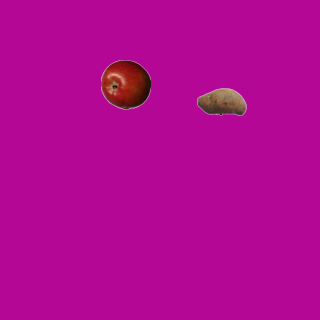Apple Braeburn: (100, 59, 150, 109)
Potato Sweet: (196, 76, 246, 126)
